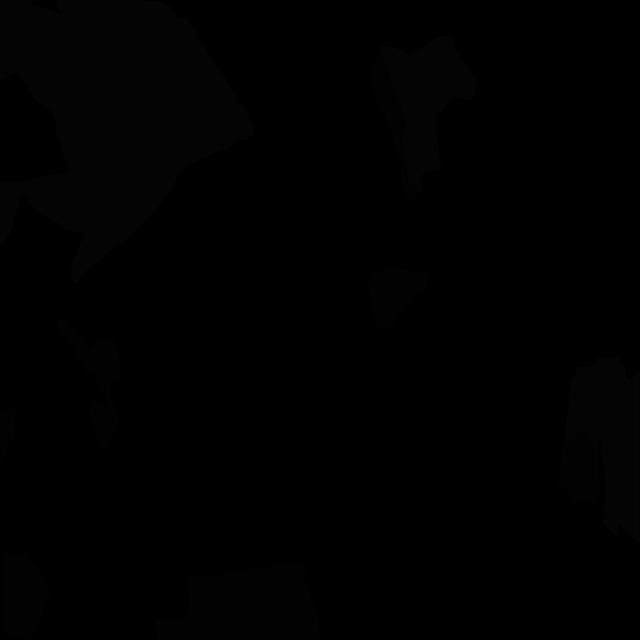cardboard: (156, 563, 320, 640), (56, 319, 121, 449), (371, 50, 423, 204), (4, 554, 51, 640), (368, 269, 429, 332), (558, 430, 600, 503), (0, 409, 16, 464)
soft_plastic: (379, 35, 476, 188), (564, 356, 640, 543)
